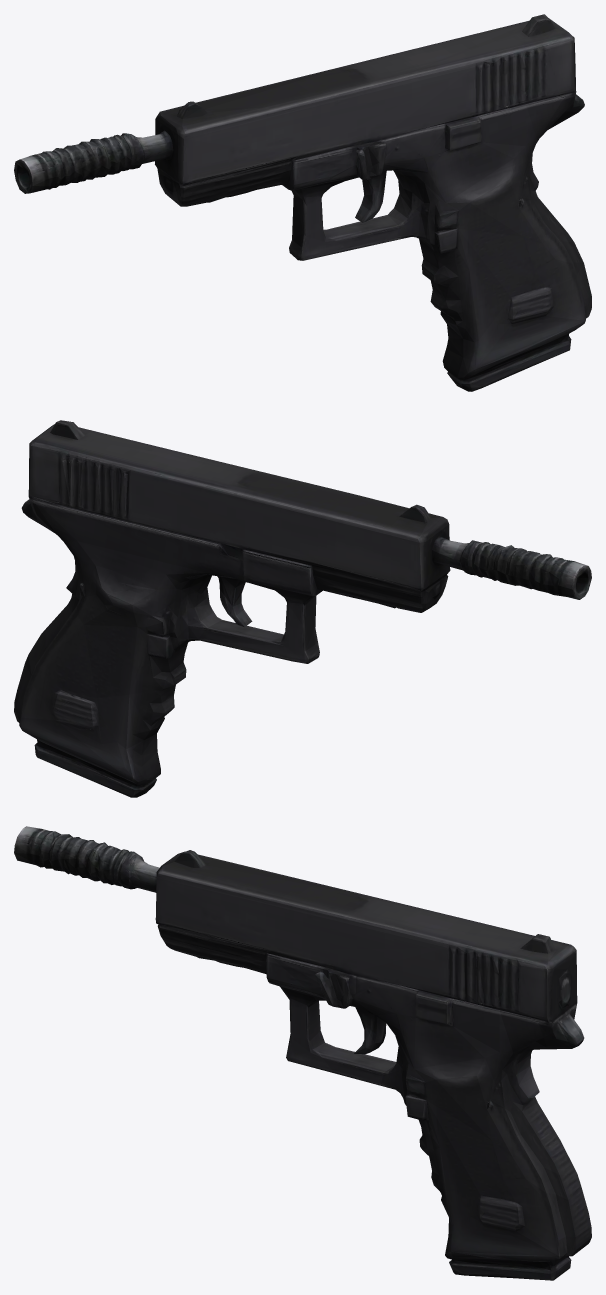
The model's file is black_glock_threaded.glb.
The picture shows the model from 3 angles, top to bottom: view 1: azimuth 30°, elevation 25°; view 2: azimuth 150°, elevation 25°; view 3: azimuth 330°, elevation 25°; orthographic projection.
Visible parts, largest first — view 1: geometry_0; view 2: geometry_0; view 3: geometry_0.
Boxes of the visible parts, x1,y1,x2,y2 form: geometry_0: [14, 14, 591, 391]; geometry_0: [14, 420, 591, 797]; geometry_0: [14, 826, 591, 1280].
Bounding box in the file's own units: 0.9995 × 0.5962 × 0.1275.
1 material, 1 textured.
